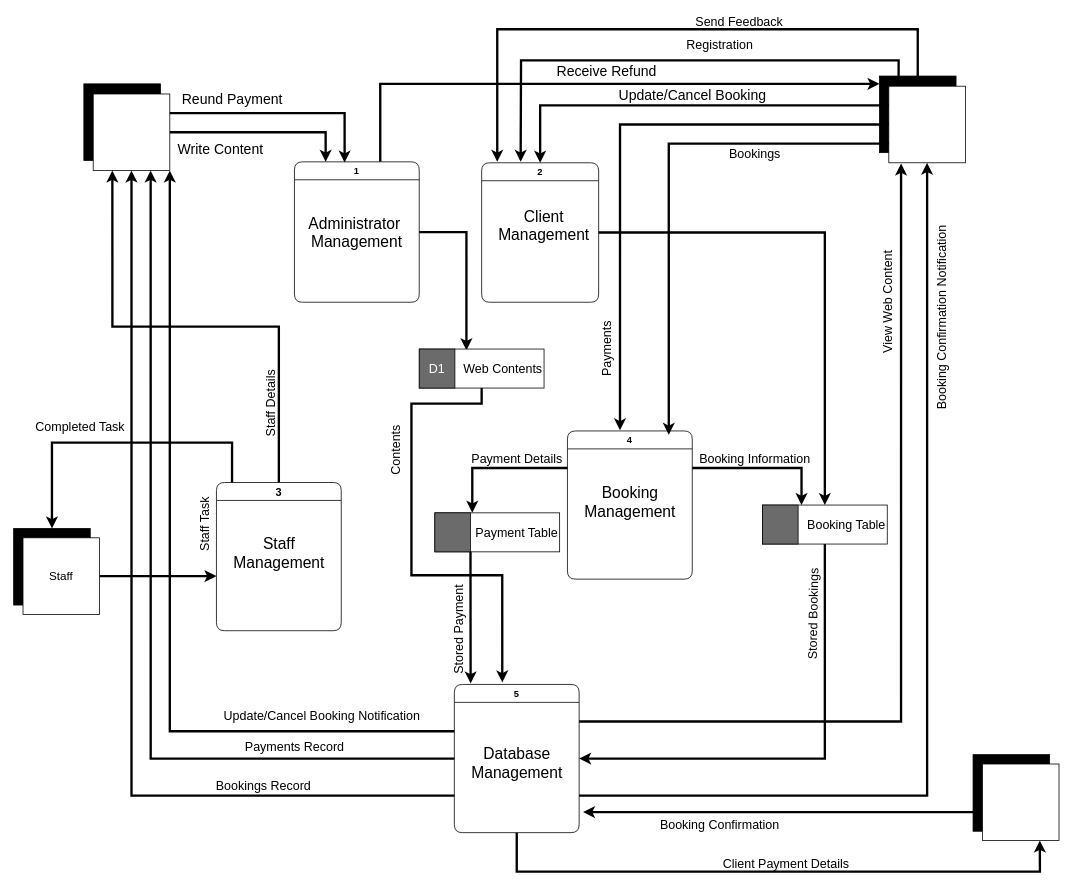
The diagram is 1080 pixels wide and 892 high, and some of its shapes have lost their labels. The centre of each missing label's shape, as x and y in pixels:
Administrator: the point at 131,132
Client: the point at 926,124
D2: the point at 452,532
D3: the point at 780,524
System: the point at 1020,802
